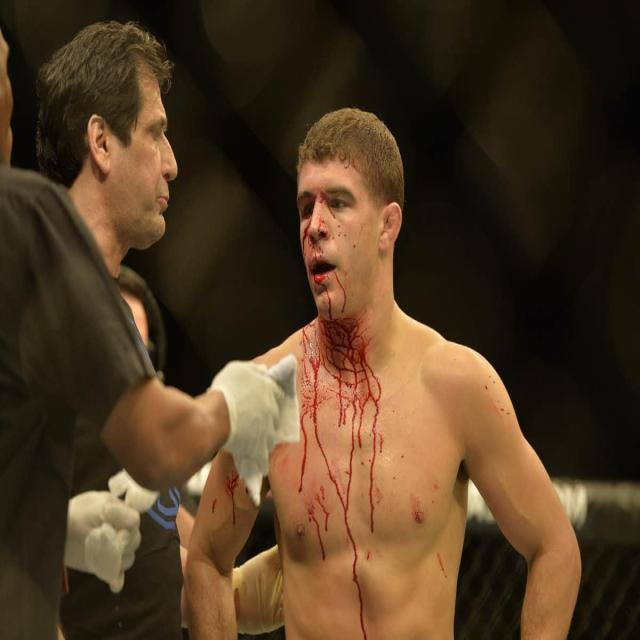flood: (284, 180, 396, 640)
